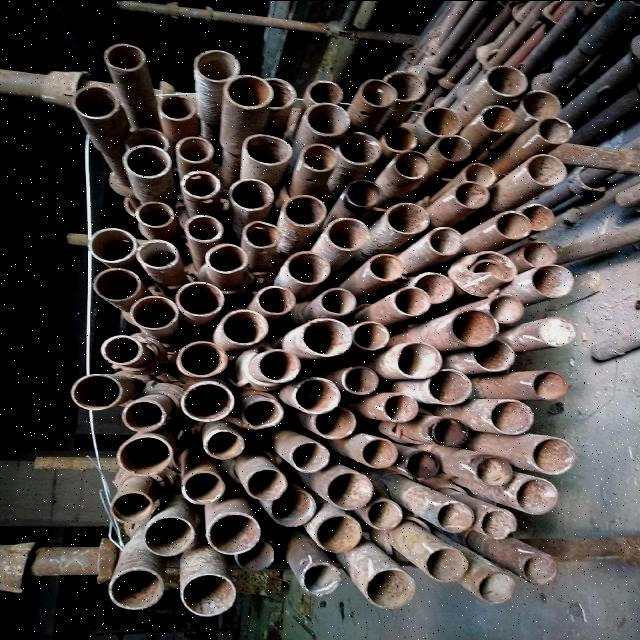pipe: (180, 570, 237, 618), (205, 509, 262, 557), (106, 564, 162, 609), (115, 432, 171, 476), (177, 379, 234, 422), (458, 248, 518, 287), (364, 566, 416, 610), (144, 514, 196, 556), (175, 337, 229, 377), (298, 318, 352, 358), (68, 372, 122, 411), (425, 365, 475, 407), (312, 514, 364, 554), (324, 469, 376, 509), (129, 291, 179, 331), (238, 130, 292, 166), (122, 141, 172, 179), (86, 226, 136, 264), (486, 396, 536, 434), (176, 278, 226, 316), (292, 375, 342, 413), (220, 307, 270, 345), (268, 487, 316, 526), (278, 191, 330, 227), (188, 48, 242, 82), (512, 476, 560, 514), (528, 436, 576, 474), (450, 308, 498, 346), (90, 267, 142, 302), (70, 82, 120, 118), (120, 396, 170, 432), (283, 250, 333, 286), (302, 100, 352, 136), (382, 199, 434, 233), (472, 335, 518, 373), (324, 216, 370, 254), (254, 346, 302, 382), (222, 74, 270, 110), (312, 404, 358, 441), (106, 491, 156, 525), (408, 269, 458, 303), (397, 341, 442, 378), (134, 236, 180, 272), (299, 559, 345, 595), (424, 545, 470, 581), (420, 102, 466, 138), (482, 63, 528, 99), (227, 176, 274, 211), (102, 38, 150, 72), (526, 264, 574, 298), (336, 130, 384, 164), (518, 86, 566, 120), (378, 70, 428, 102), (182, 468, 224, 506), (389, 282, 433, 318), (242, 466, 288, 500), (239, 216, 285, 250), (337, 178, 387, 208), (204, 242, 248, 276), (98, 332, 144, 364), (253, 75, 296, 109), (176, 168, 226, 197), (432, 501, 477, 533), (363, 495, 403, 531), (476, 570, 518, 604), (523, 152, 565, 186), (474, 455, 518, 487), (232, 541, 280, 570), (389, 147, 432, 179), (536, 316, 578, 348), (253, 282, 295, 314), (316, 284, 358, 316), (366, 250, 408, 282), (354, 77, 396, 109), (480, 506, 518, 540), (242, 395, 280, 429), (183, 213, 226, 243), (520, 552, 560, 584), (402, 449, 442, 481), (516, 238, 560, 267), (379, 391, 421, 421), (490, 209, 532, 239), (516, 202, 558, 232), (452, 180, 494, 210), (304, 77, 346, 107), (202, 429, 245, 458), (360, 437, 400, 468), (430, 418, 472, 447), (352, 321, 394, 350), (290, 439, 328, 471), (301, 141, 339, 173), (174, 132, 217, 160), (432, 131, 472, 161), (535, 115, 575, 145), (530, 368, 568, 399), (378, 126, 421, 153), (124, 126, 170, 151), (342, 364, 380, 394), (486, 292, 524, 322), (478, 104, 516, 134), (157, 92, 197, 120), (424, 226, 464, 254), (458, 160, 496, 187), (136, 201, 173, 227)
